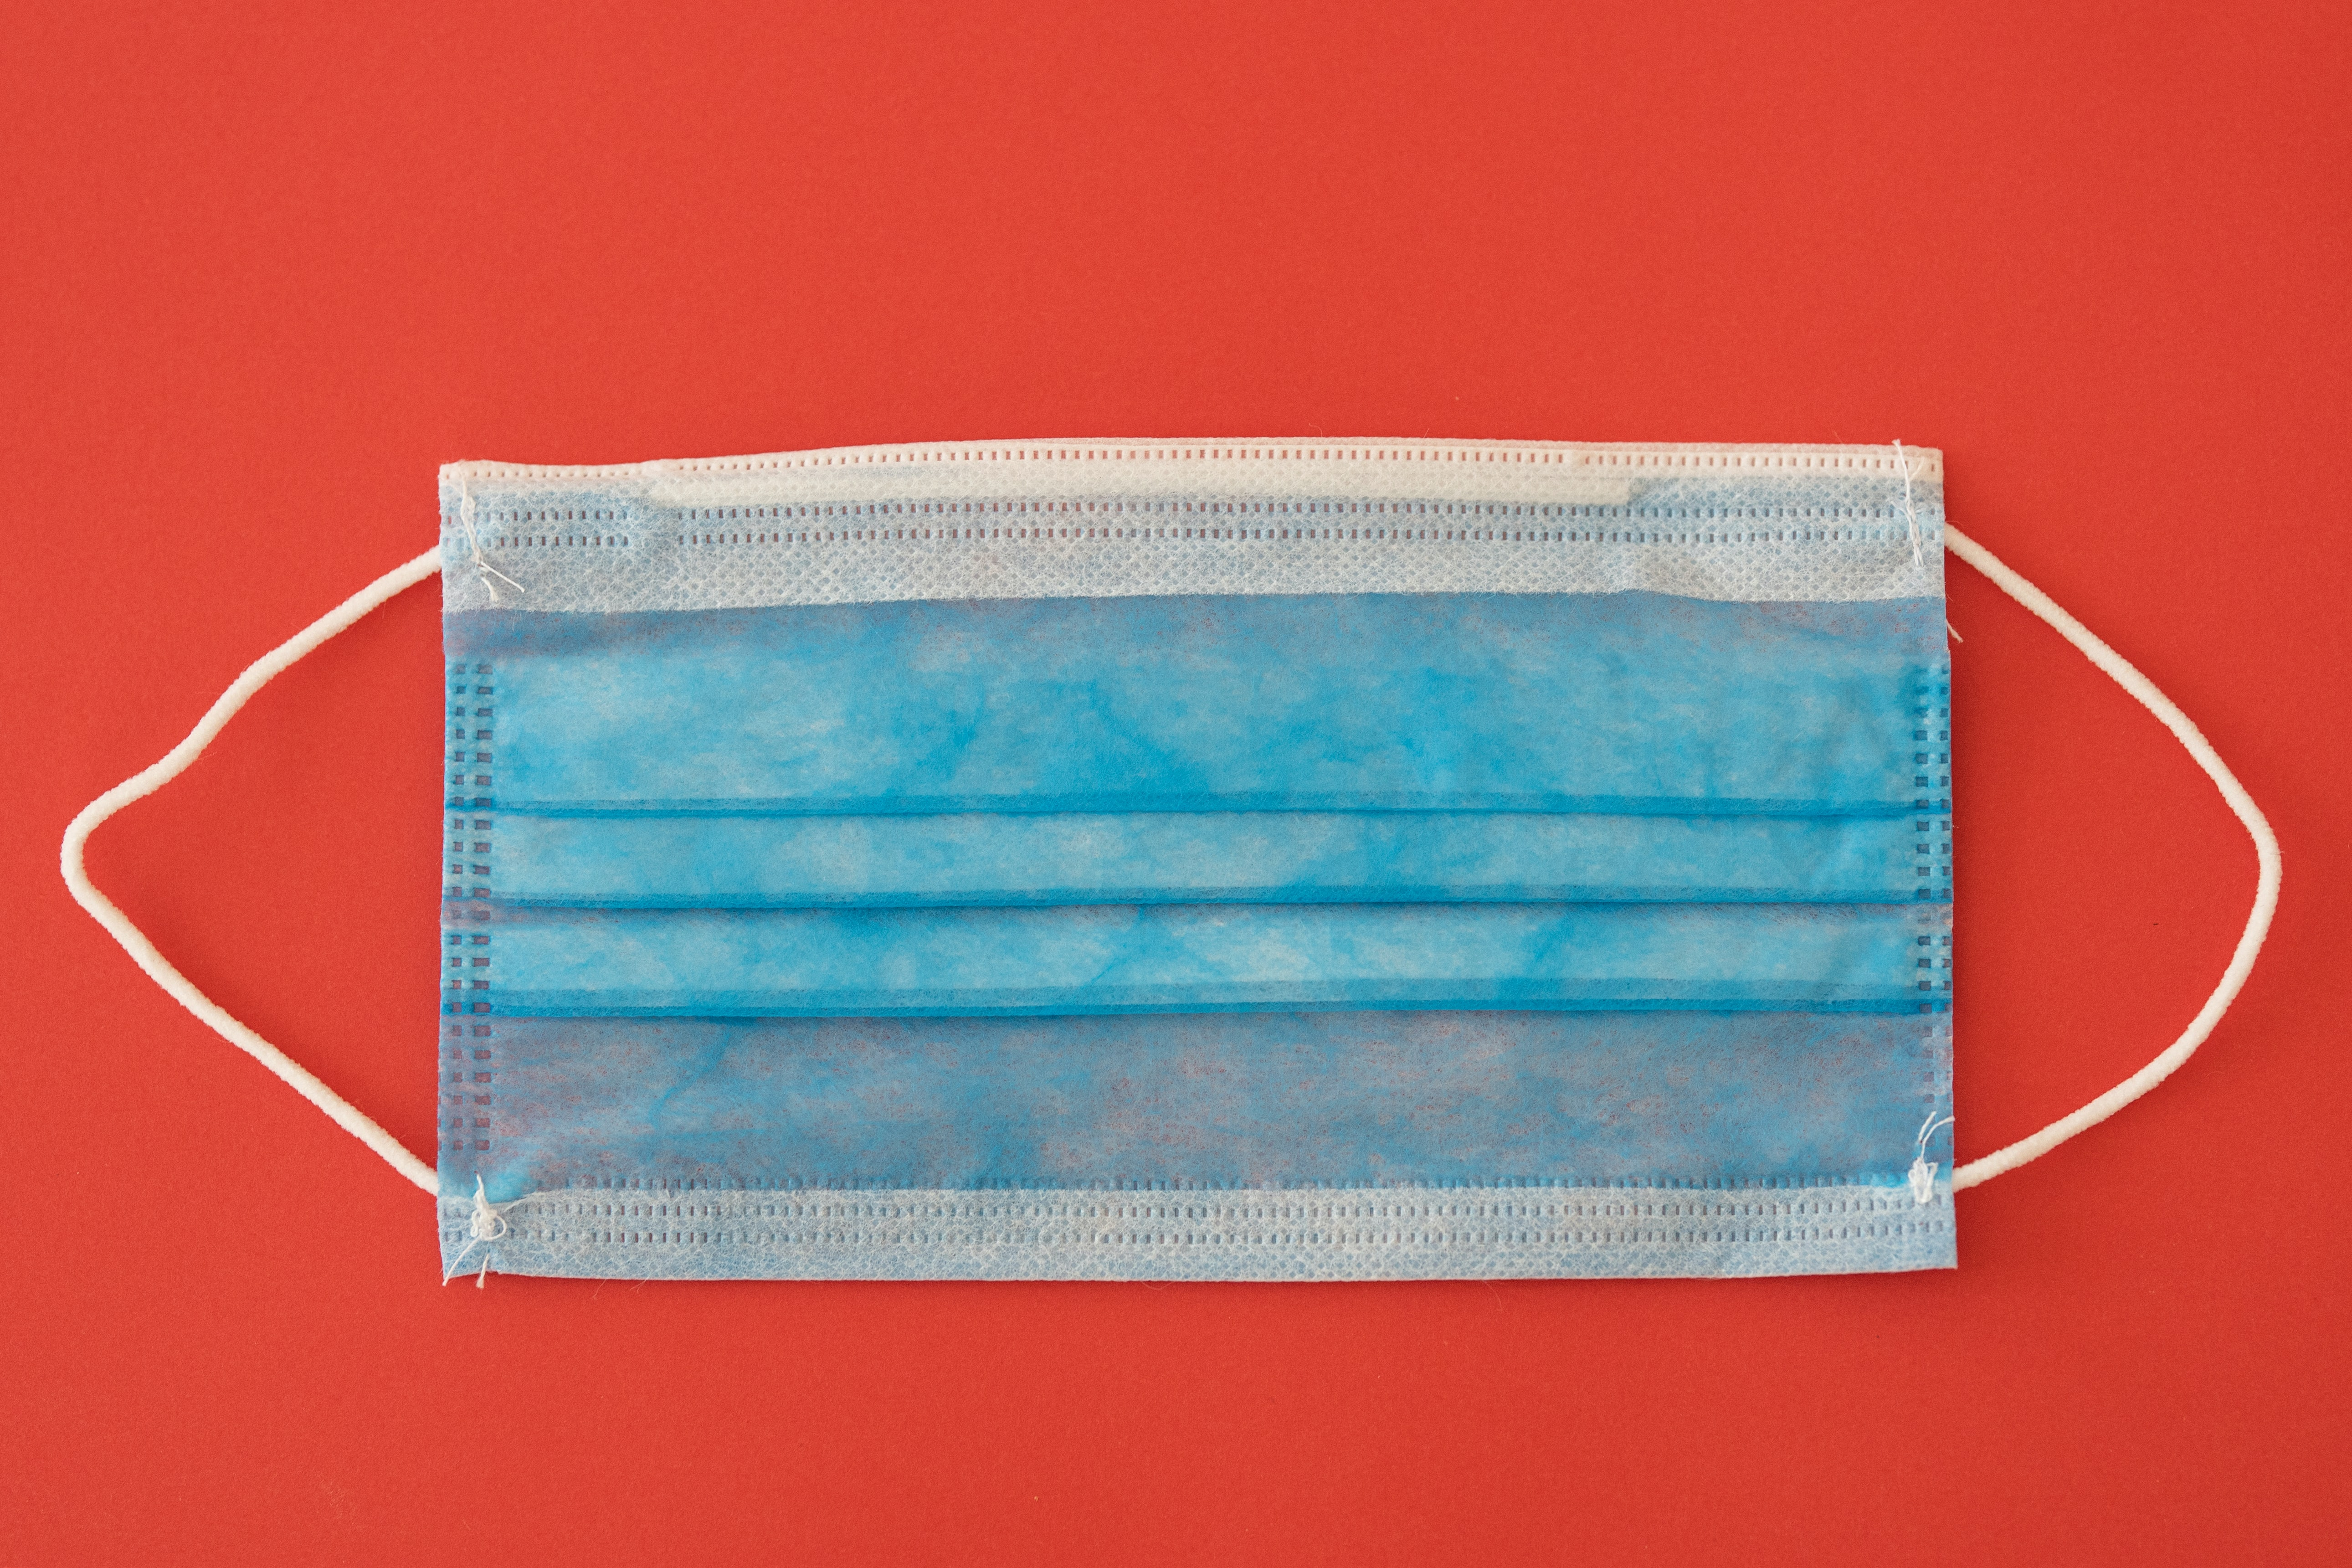mask: (47, 406, 2310, 1333)
